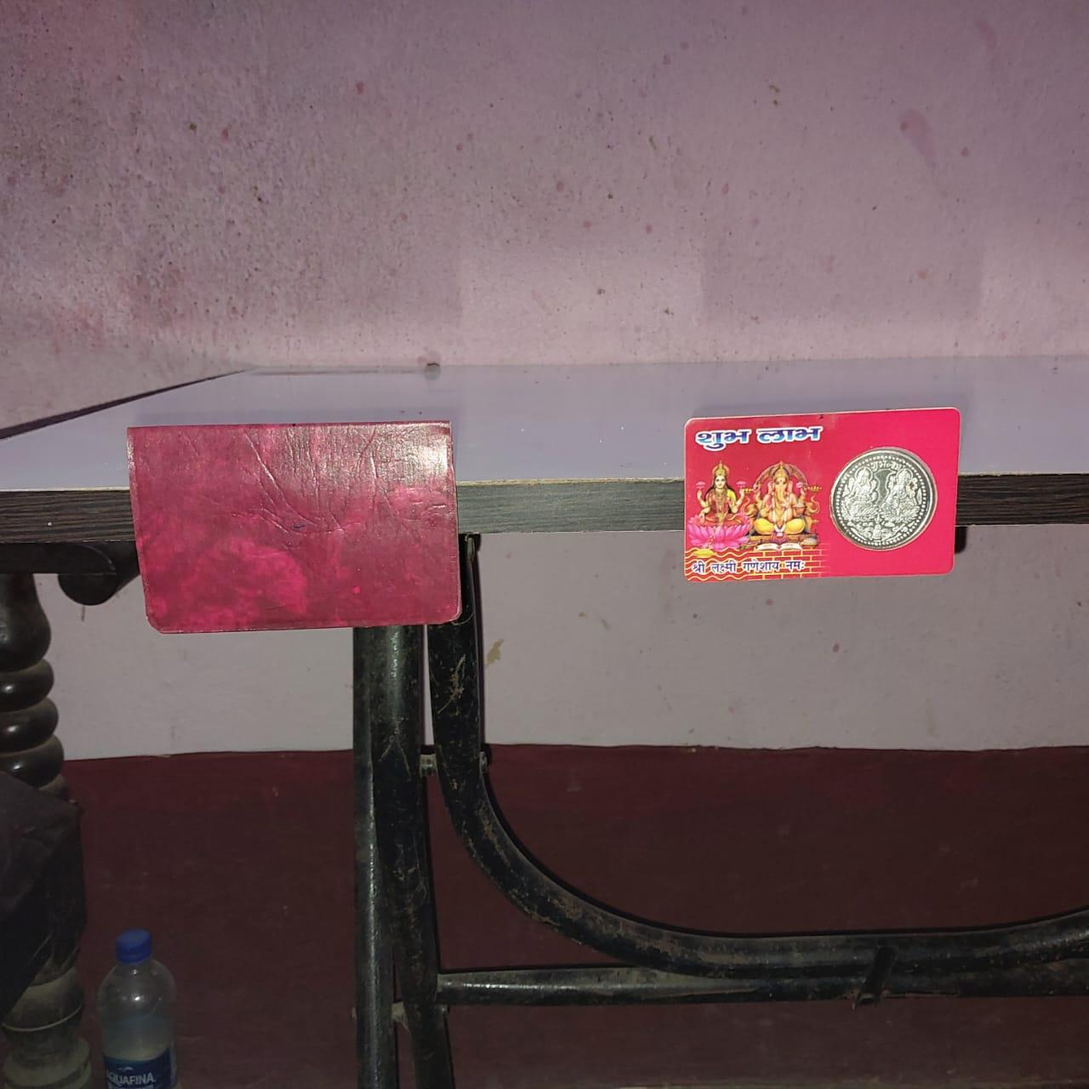blessing_card: (686, 410, 964, 583)
wallet: (126, 419, 466, 633)
